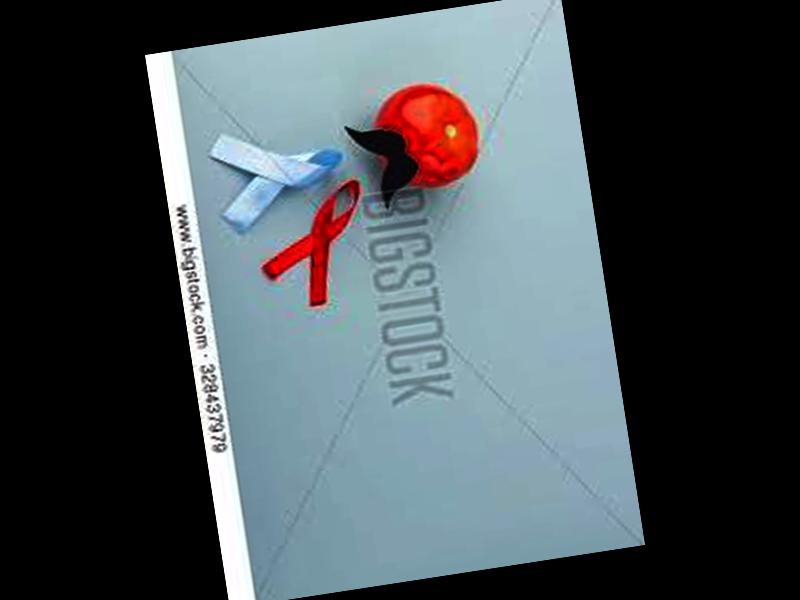Tomato: (368, 78, 485, 195)
